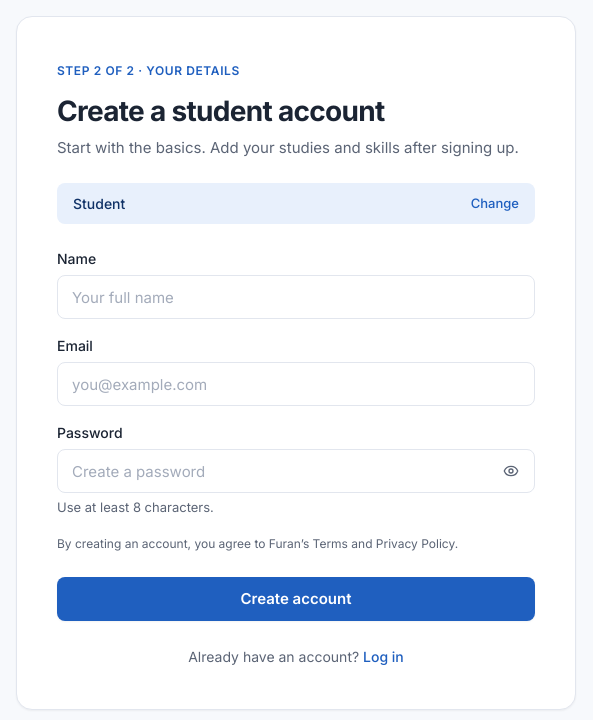
Authentication Screens Suite › Register Page › validates password minimum length of 8 characters in student registration
This screenshot has width=593, height=720.
Type "Hodan Ali" into the field labelled "Name". click: x=296, y=297
box: [57,275,535,319]
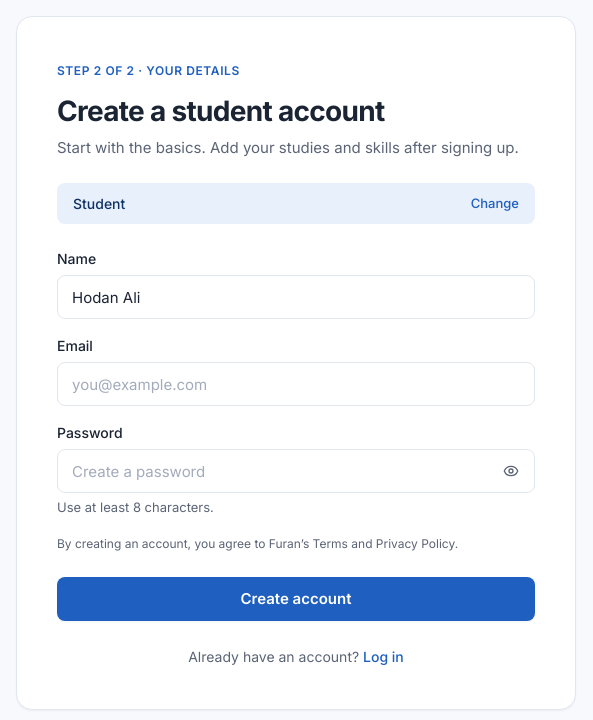
Type "hodan@example.com" into the field labelled "Email". click: x=296, y=384
box: [57,362,535,406]
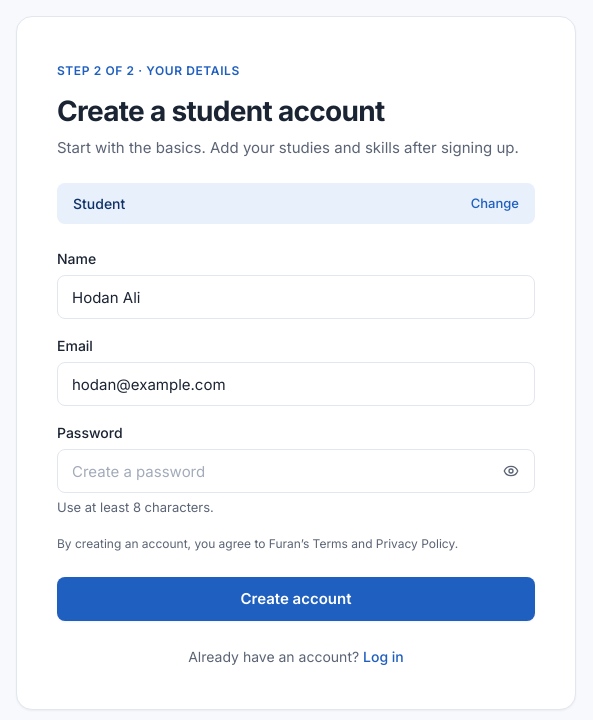
Type "123" into the password field labelled "Password". click: x=296, y=471
box: [57,449,535,493]
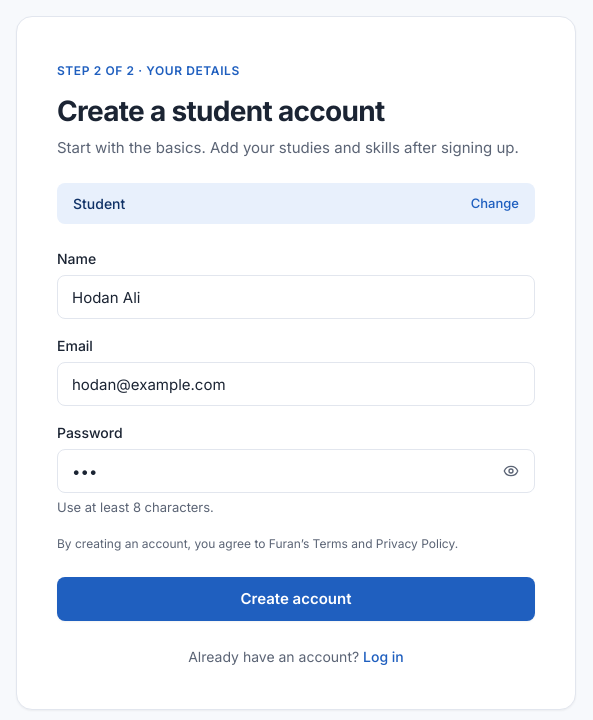
Click the button "Create account". click: x=296, y=599
box: [57,577,535,621]
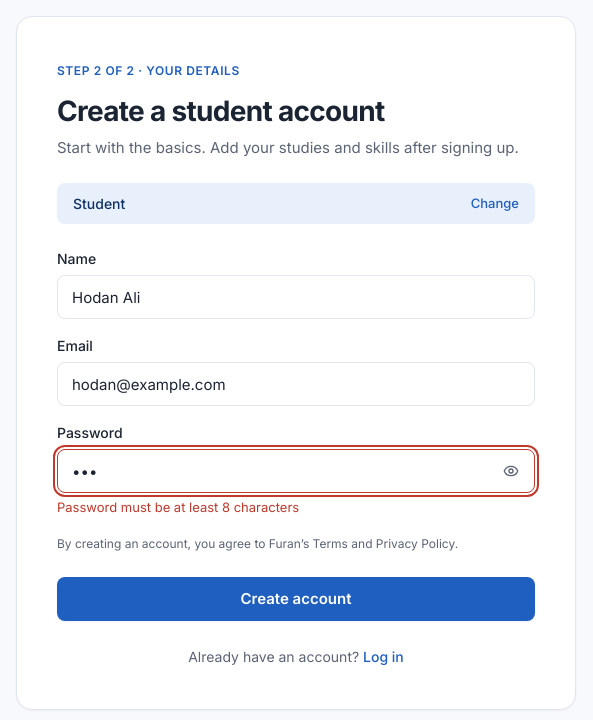
Result: the text "Password must be at least 8 characters" is shown at [57,499,299,515]
